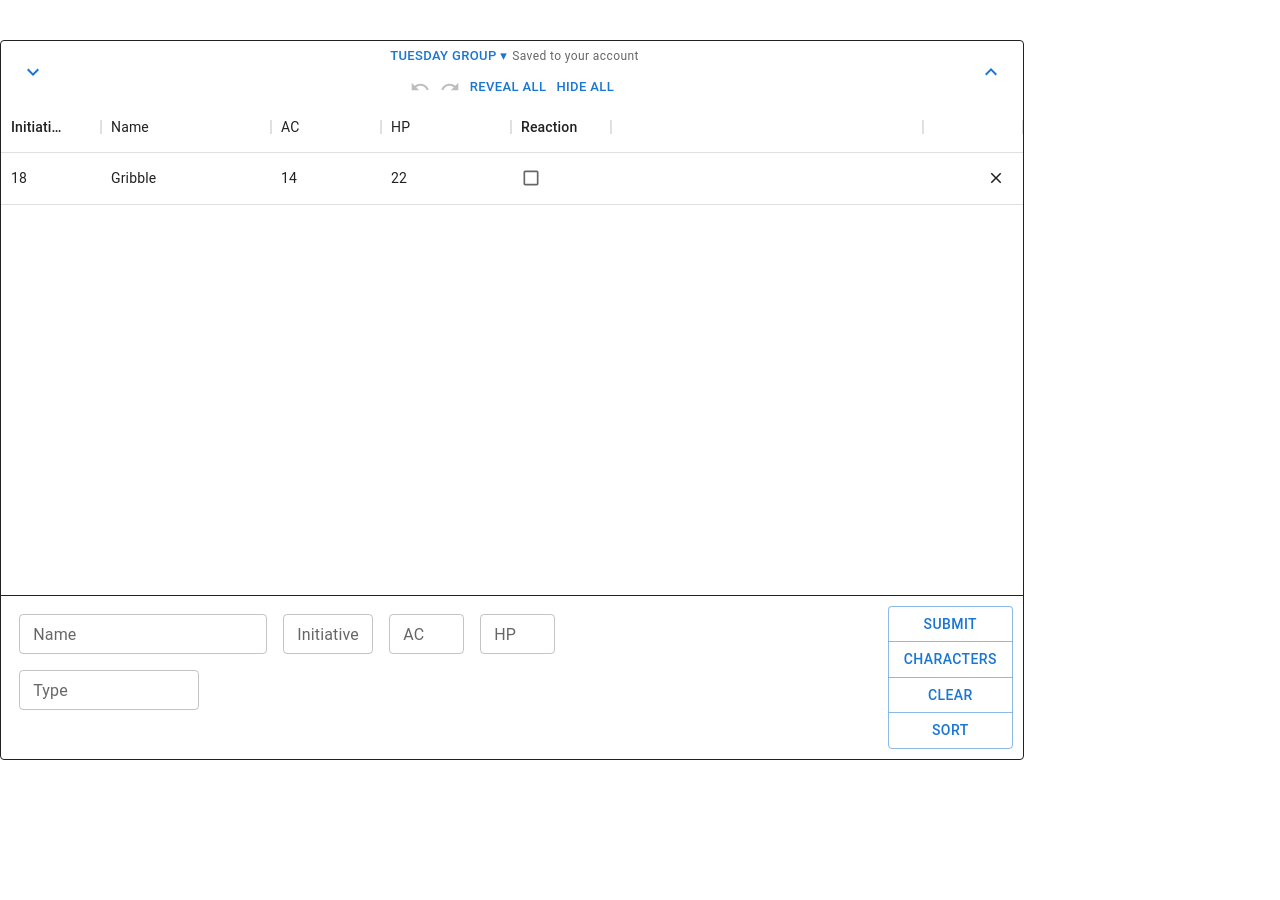
Test case: TrackerPage › trackers › brings a saved tracker back, and puts the one in use away
Expected: the text "Gribble" is shown, x1=111 y1=168 x2=156 y2=188
Click the button with aria-label "Trackers": (449, 56) x1=385 y1=41 x2=512 y2=72
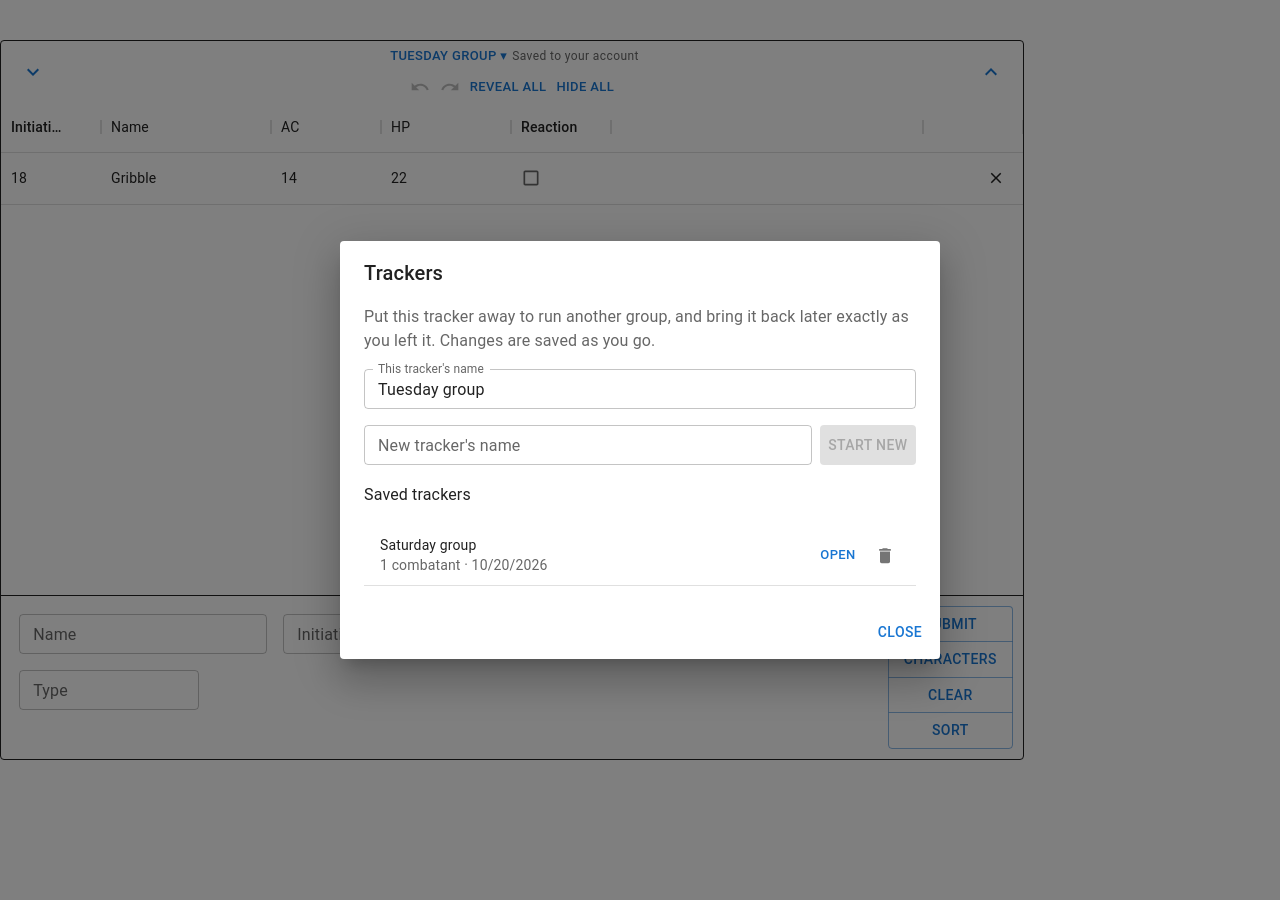
Click the button "Open": (838, 555) x1=806 y1=540 x2=870 y2=571
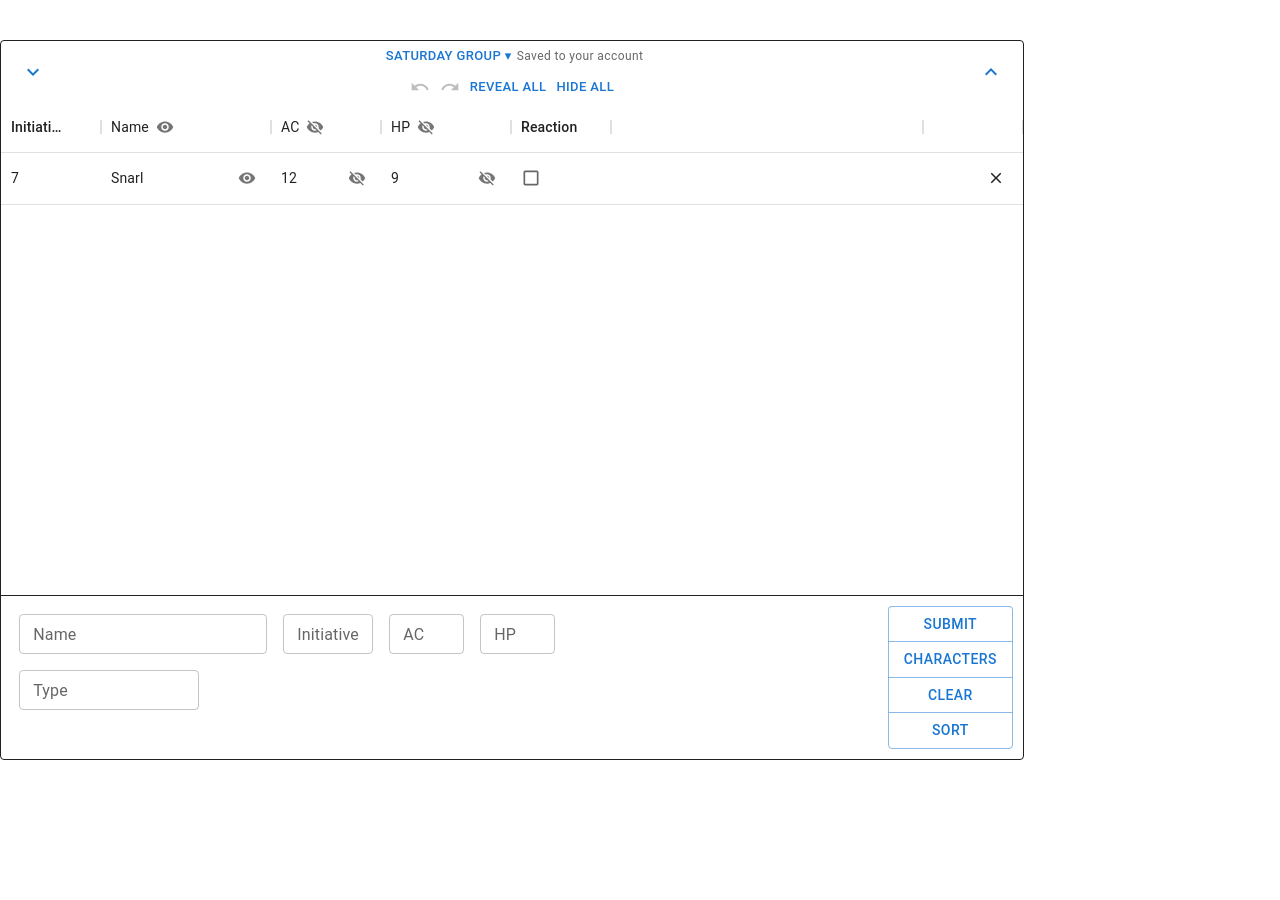
Expected: the text "Snarl" is shown, x1=111 y1=168 x2=144 y2=188
Expected: the text "Gribble" is gone
Expected: the dialog is gone
